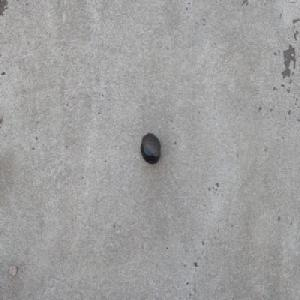FuelCap: (140, 132, 161, 164)
